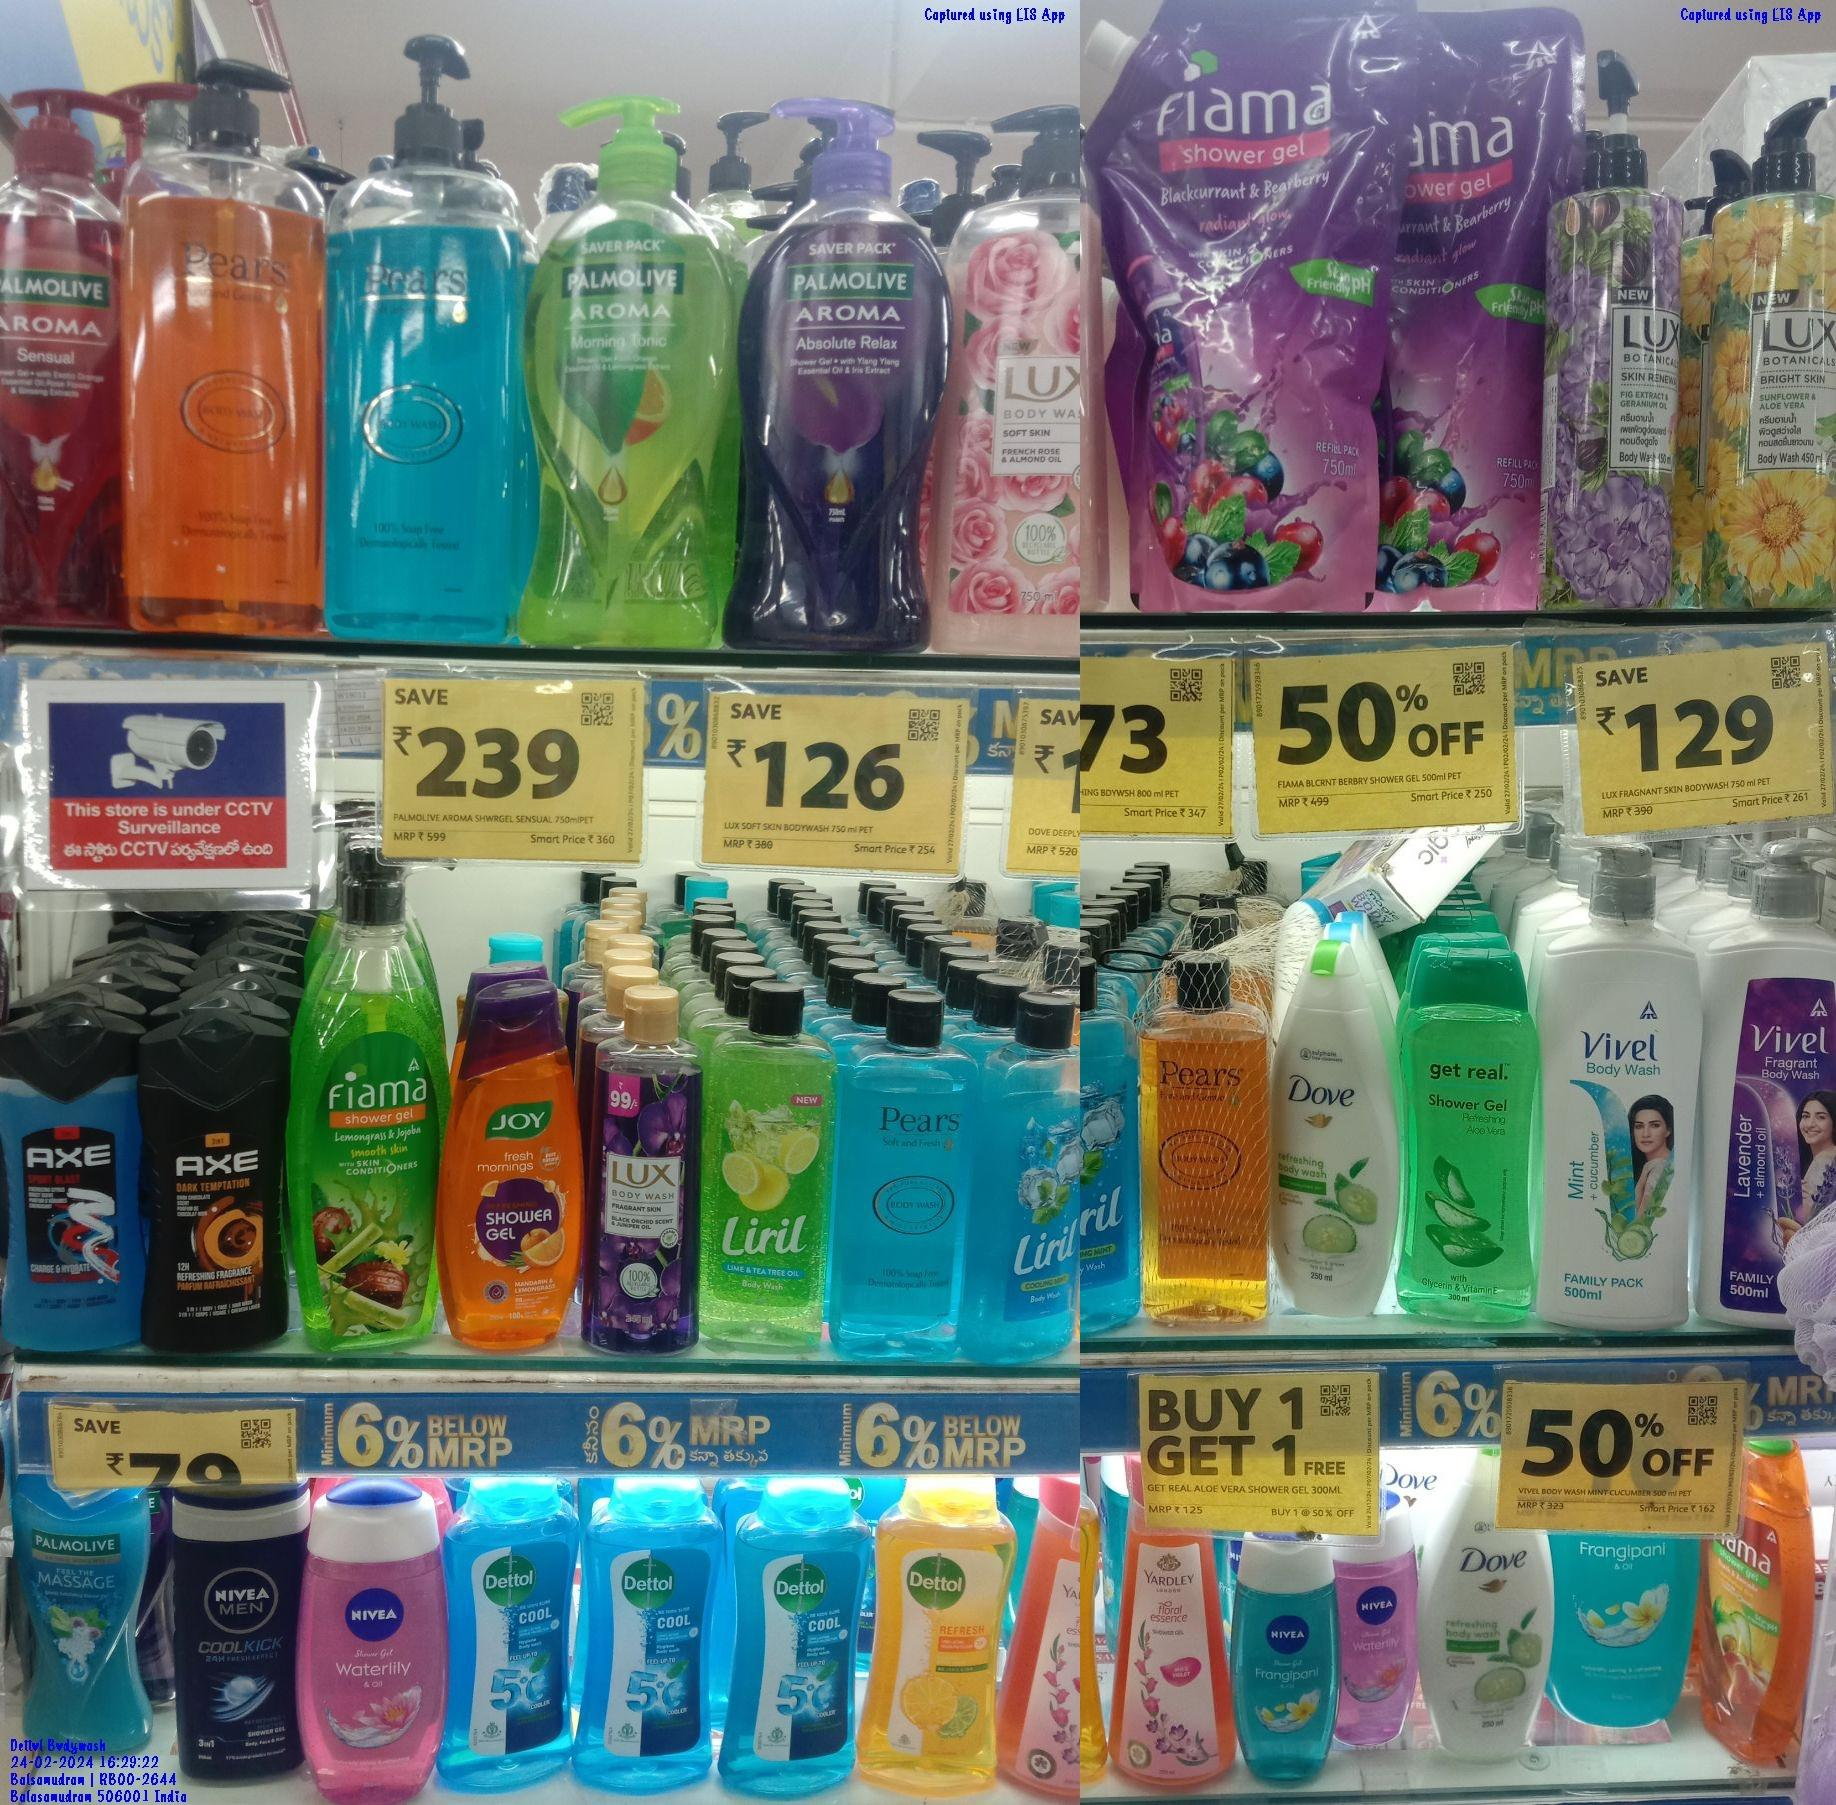Dettol_Bodywash_Cool: (583, 1458, 714, 1788), (721, 1473, 853, 1787), (449, 1466, 565, 1797)
Dettol_Bodywash_Refresh: (868, 1461, 988, 1790)
Dove_Refreshing_Body_Wash_250ML: (1274, 926, 1398, 1324), (1421, 1464, 1552, 1757)
Fiama_Shower_Gel_Peach_and_Avocado_250ML: (1709, 1441, 1808, 1754)
Joy_Shower_Gel_Mandarin_and_Lemongrass_250ML: (441, 979, 577, 1357)
Liril_Cooling_Mint_Body_Wash_250ML: (973, 977, 1077, 1364)
Liril_Lime_and_Tea_Tree_Oil_Body_Wash_250ML: (707, 983, 825, 1347)
Lux_Black_Orchid_Scent_and_Juniper_Oil_Body_Wash_245ML: (587, 990, 702, 1355)
Nivea_Shower_Gel_Frangipani_and_Oil_250ML: (1562, 1527, 1694, 1727), (1228, 1532, 1335, 1775)
Nivea_Shower_Gel_Waterlily_and_Oil_250ML: (301, 1479, 438, 1805)
Palmolive_Aroma_Moments_Feel_The_Massage_Shower_Gel_250ML: (20, 1476, 155, 1754)
Pears_Pure_Glycerin_and_Mint_Extracts_Body_Wash_250ML: (838, 993, 967, 1342)
